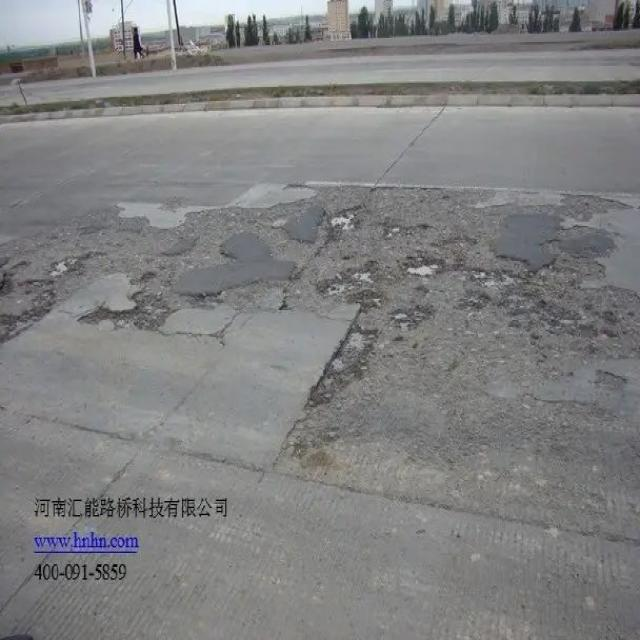Pothole: (5, 181, 634, 366)
